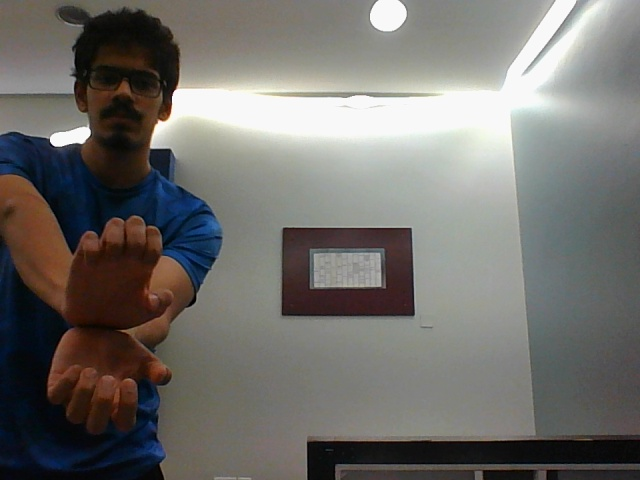blast: (48, 216, 179, 433)
